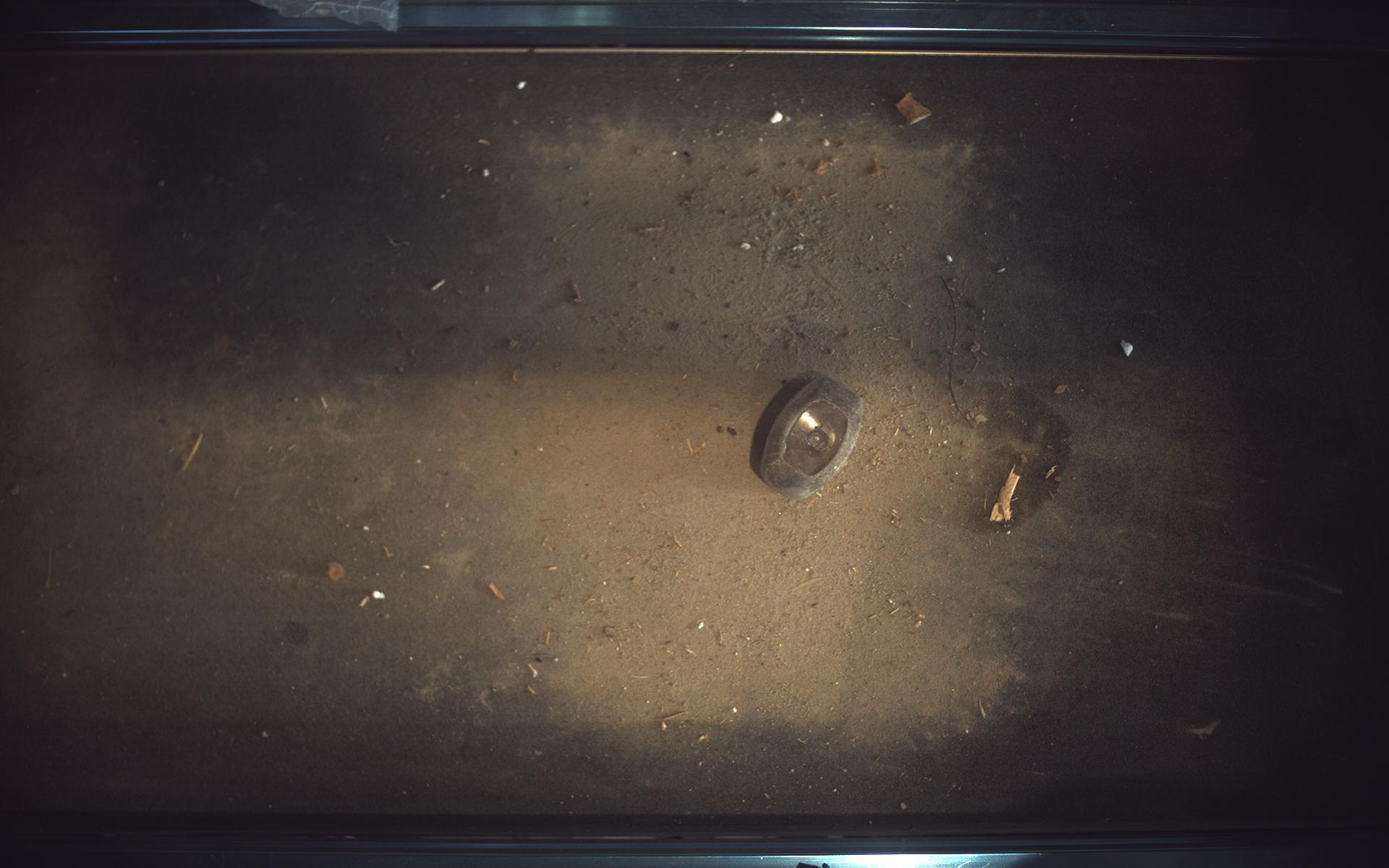general_w: (752, 373, 865, 500)
